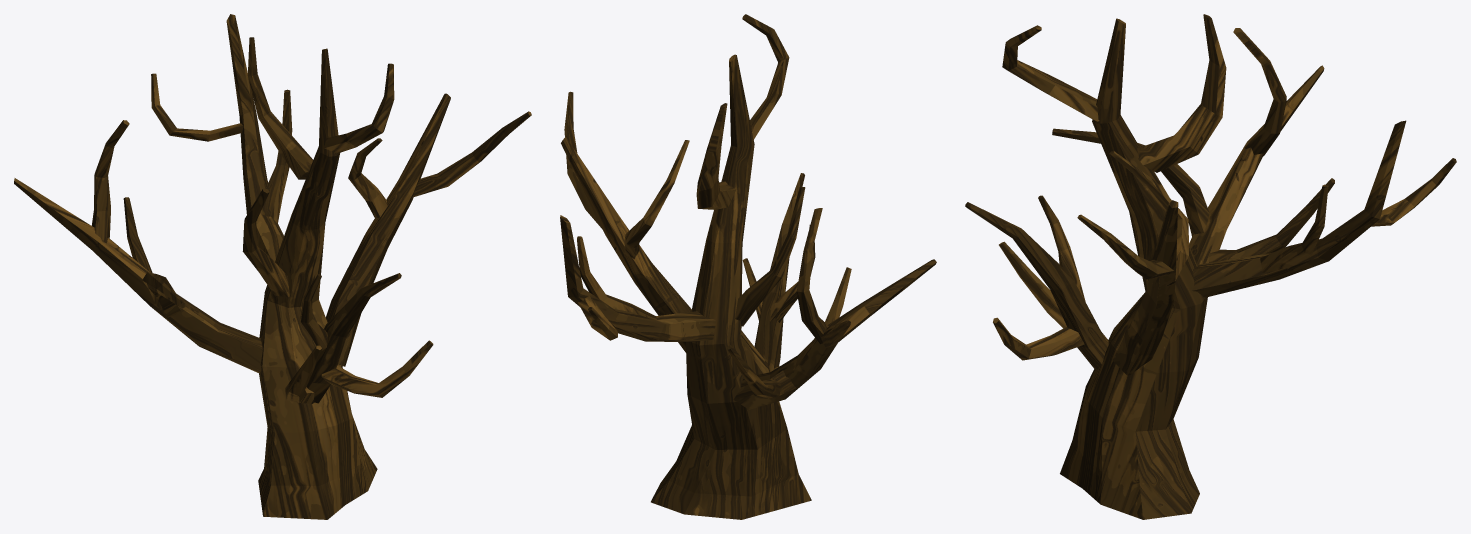
Rendered from Dead_Bush4.fbx.
The picture shows the model from 3 angles, left to right: view 1: azimuth 30°, elevation 25°; view 2: azimuth 150°, elevation 25°; view 3: azimuth 270°, elevation 25°; orthographic projection. The views are drawn at different scales.
Parts seen in each view (by area): view 1: Dead_Bush_4; view 2: Dead_Bush_4; view 3: Dead_Bush_4.
Part boxes in pixels (bbox=[...]): Dead_Bush_4: bbox=[14, 14, 531, 519]; Dead_Bush_4: bbox=[560, 14, 936, 519]; Dead_Bush_4: bbox=[965, 14, 1456, 519].
Size of the model in its own units: 32.01 by 32.13 by 34.27.
